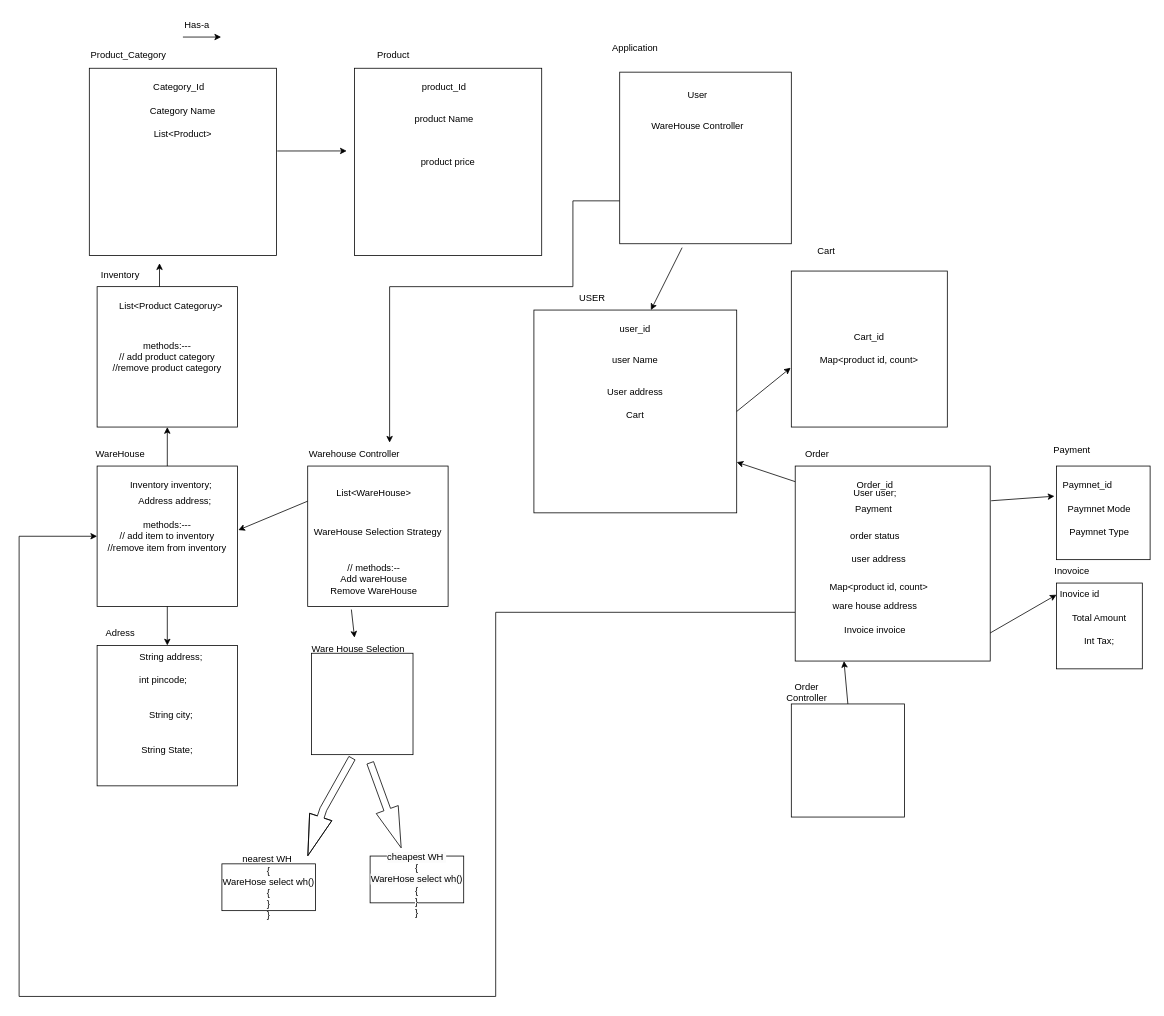
The diagram is 1164 pixels wide and 1016 high, and some of its shapes have lost their labels. Each missing label, with the centre of its shape:
"List<Order>" belongs at point 847,760.
"WareHose selectWH();" belongs at point 362,703.
